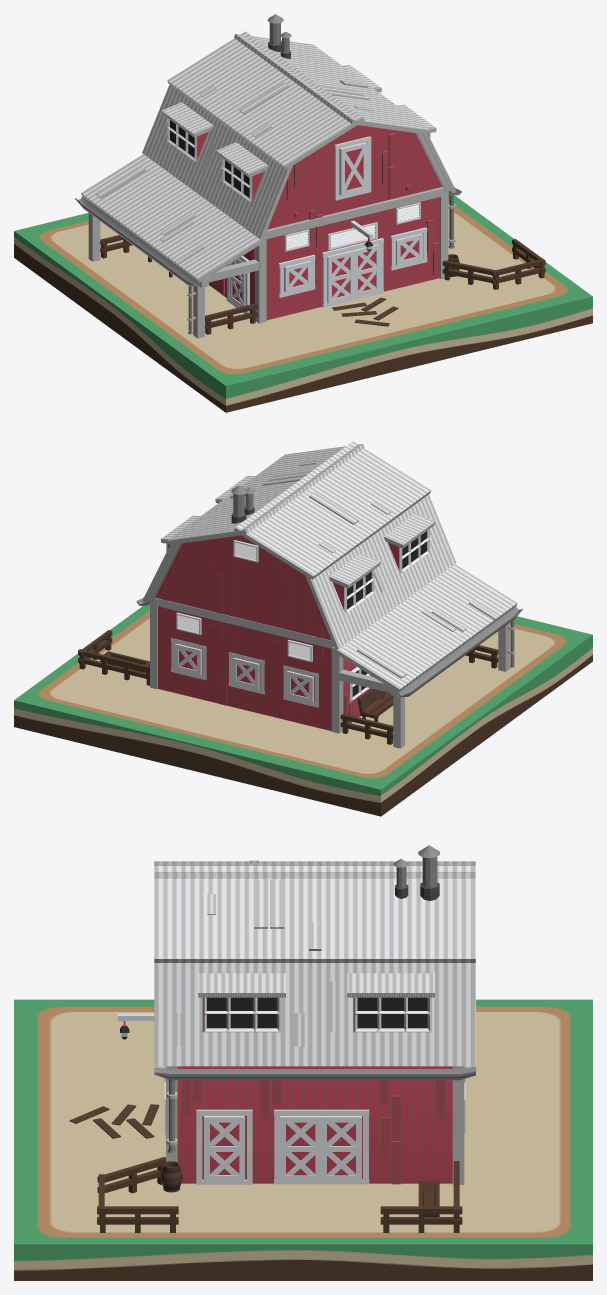
3 renders of one model, top to bottom at view 1: azimuth 30°, elevation 25°; view 2: azimuth 150°, elevation 25°; view 3: azimuth 270°, elevation 25°, orthographic. The views are drawn at different scales.
Visible parts, largest first — view 1: Barn1; view 2: Barn1; view 3: Barn1.
Part boxes in pixels (bbox=[...]): Barn1: bbox=[14, 14, 592, 412]; Barn1: bbox=[14, 441, 592, 816]; Barn1: bbox=[14, 845, 592, 1280].
Bounding box in the file's own units: 9900 × 6141 × 9900.
Materials: 1 (1 with a texture image).
